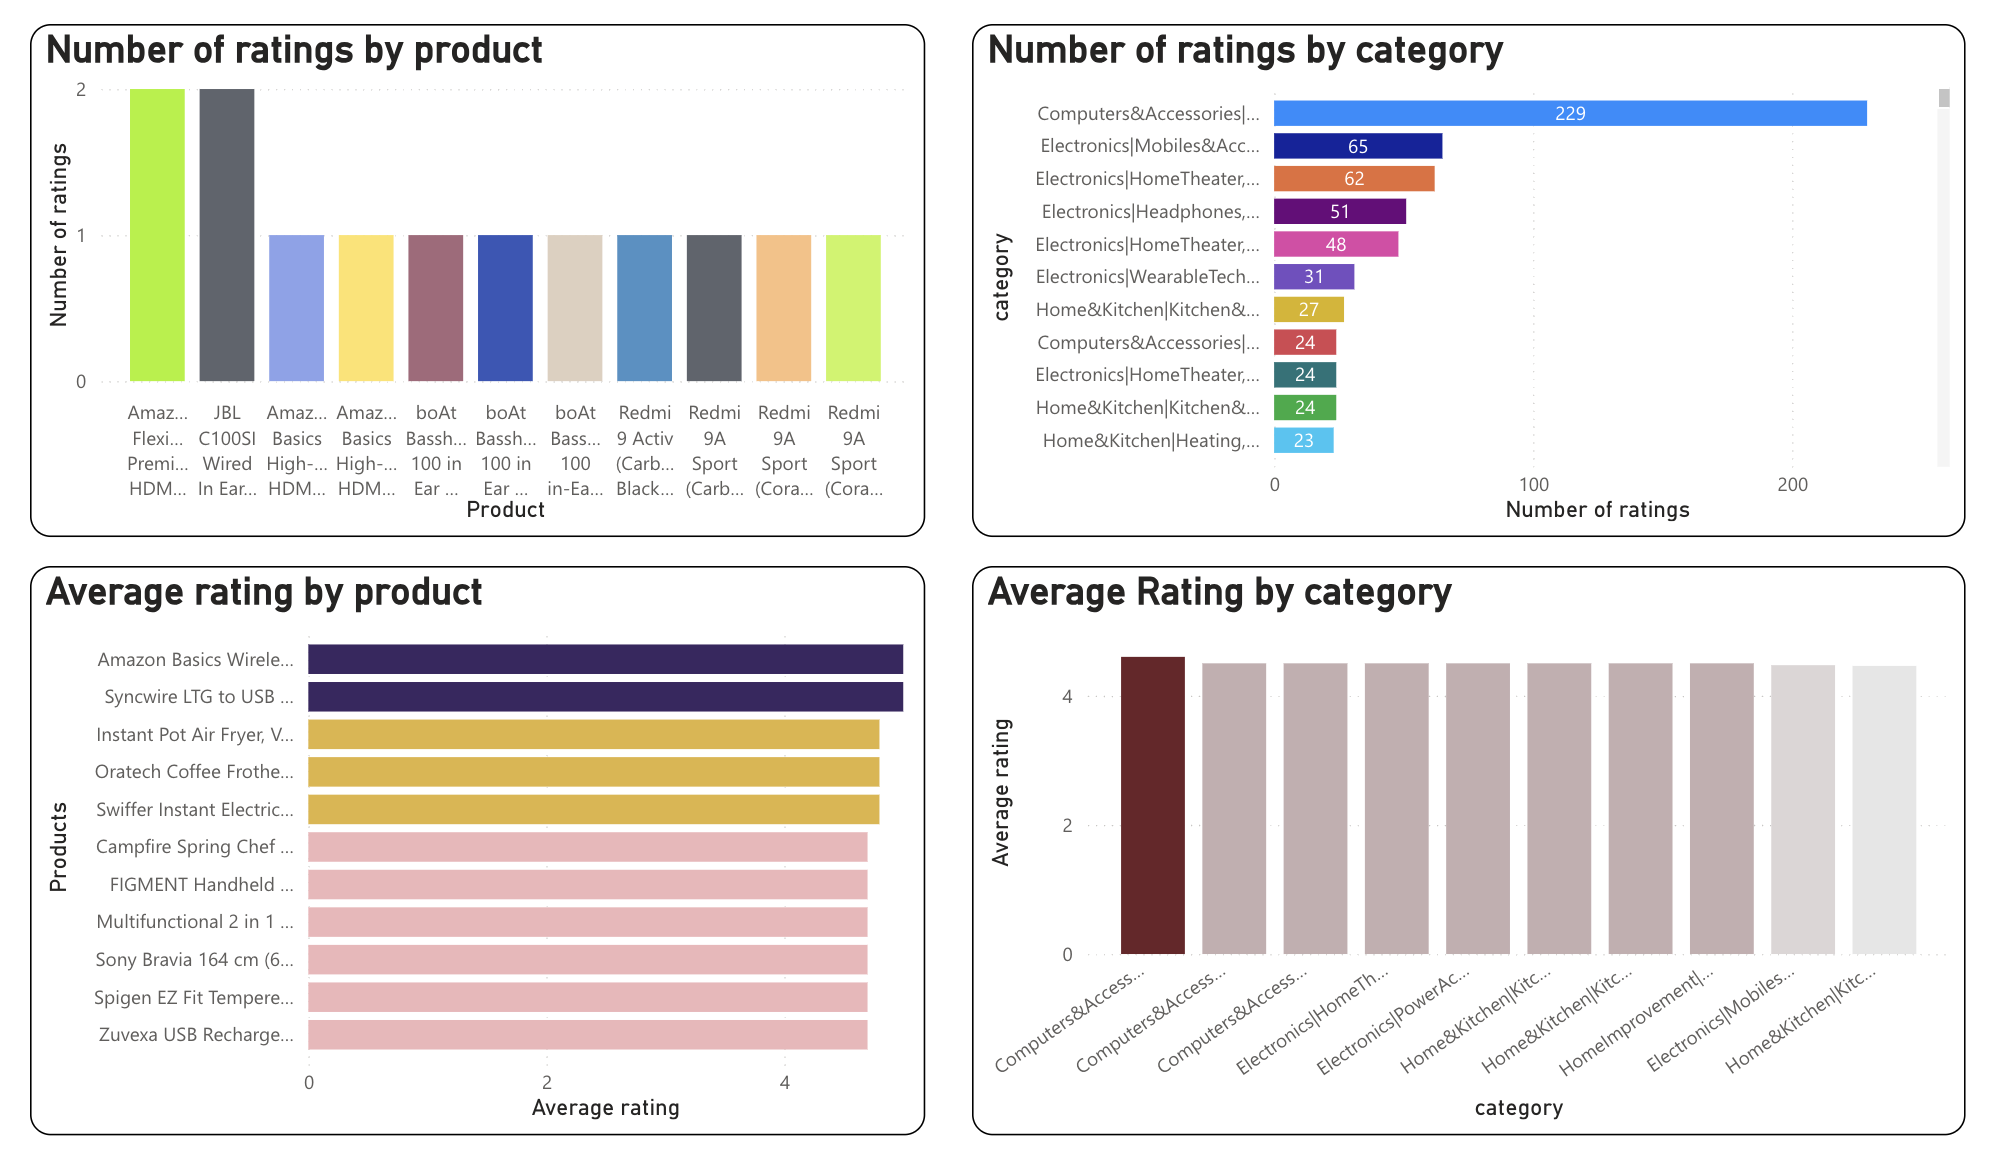

Layout of this report page (visuals, bound fields, positions):
{"tool":"powerbi","page":{"name":"Customer Behaviour","canvas":[1280,720],"ordinal":2},"visuals":[{"type":"lineStackedColumnComboChart","title":"Number of ratings by product","fields":{"Category":["dim_products.product_name"],"Y":["CountNonNull(fact_amazon_sales.rating)"],"Series":["dim_products.product_name"]},"box":[26.6,19.2,564.6,323.7],"z":0},{"type":"barChart","title":"Number of ratings by category","fields":{"Category":["dim_products.category"],"Y":["CountNonNull(fact_amazon_sales.rating_count)"],"Series":["dim_products.category"]},"box":[620.8,19.2,626.7,323.7],"z":1},{"type":"barChart","title":"Average rating by product","fields":{"Category":["dim_products.product_name"],"Y":["fact_amazon_sales.Avg Rating"]},"box":[26.6,360.6,564.6,359.2],"z":2},{"type":"clusteredColumnChart","title":"Average Rating by category","fields":{"Y":["fact_amazon_sales.Avg Rating"],"Category":["dim_products.category"]},"box":[620.8,360.6,626.7,359.2],"z":3}]}

Visuals, with their boxes on the page's 1280x720 design canvas (x1, y1, x2, y2). These are canvas units, not pixel positions in the 1994x1160 screenshot, which may show the page scaled, cropped or inside an application window:
"Number of ratings by product" lineStackedColumnComboChart: l=27, t=19, r=591, b=343
"Number of ratings by category" barChart: l=621, t=19, r=1248, b=343
"Average rating by product" barChart: l=27, t=361, r=591, b=720
"Average Rating by category" clusteredColumnChart: l=621, t=361, r=1248, b=720
